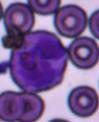E: (9, 30, 68, 93)
